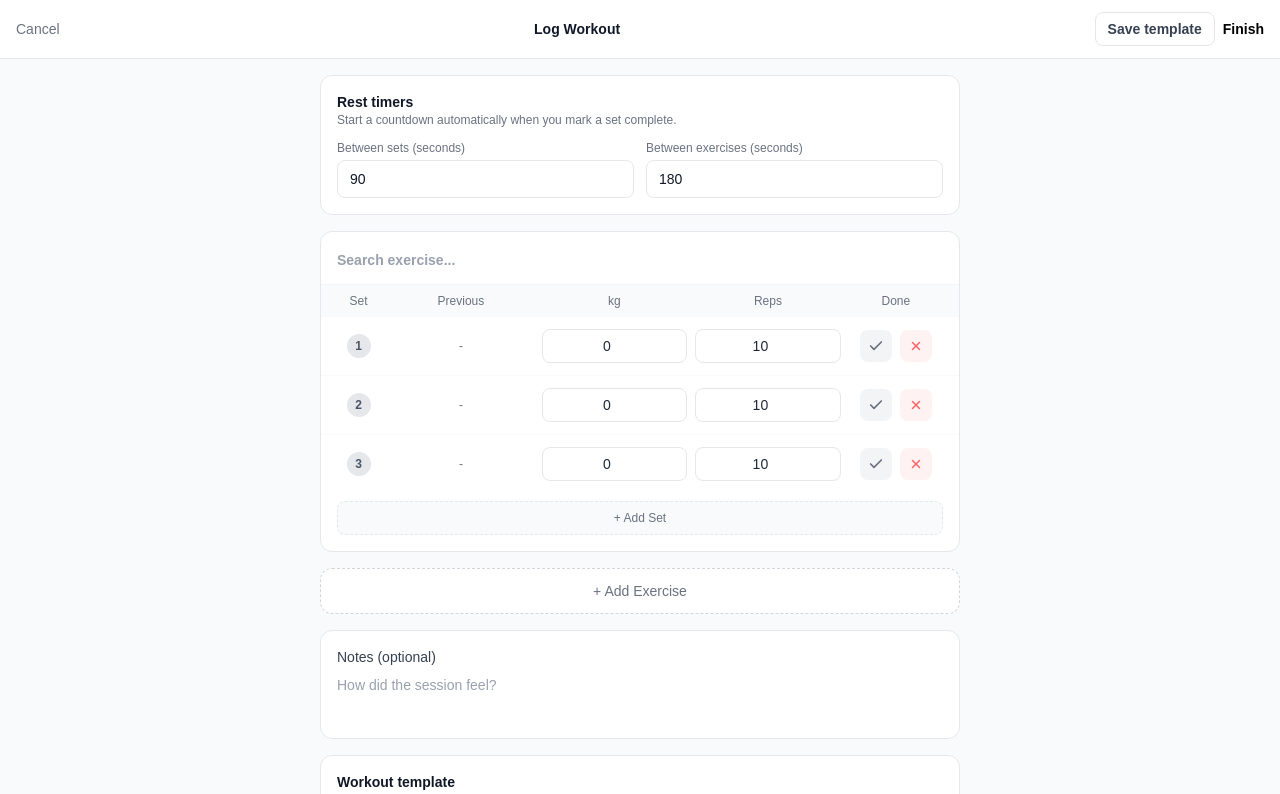
Scenario: LogWorkoutForm › starts a rest timer when a set is marked complete
The image size is (1280, 794).
Click the button named "Mark set 1 as completed" at coordinates (876, 346), box top-left (860, 330), bottom-right (892, 362)
Wait 1000 ms
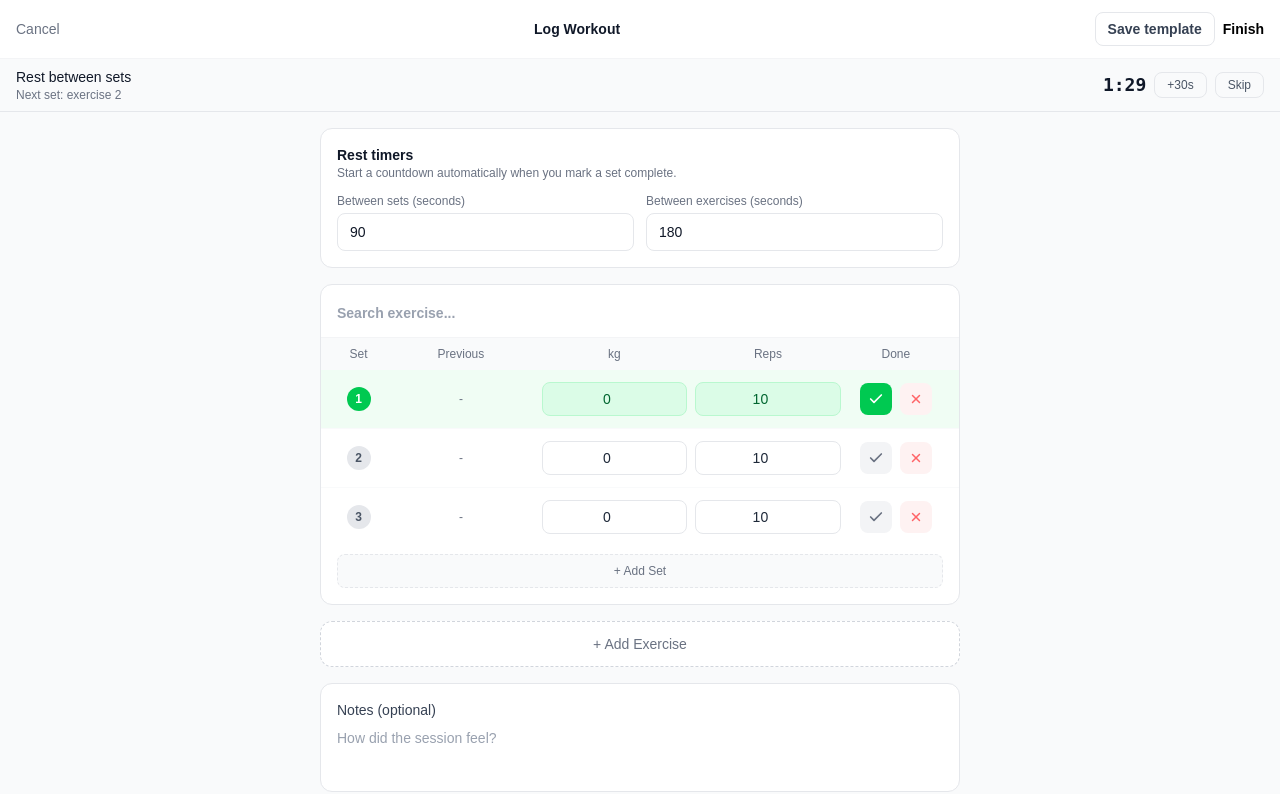
Now the text "Rest between sets" is shown, box top-left (16, 67), bottom-right (131, 87)
Now the text "1:29" is shown, box top-left (1103, 71), bottom-right (1146, 99)
